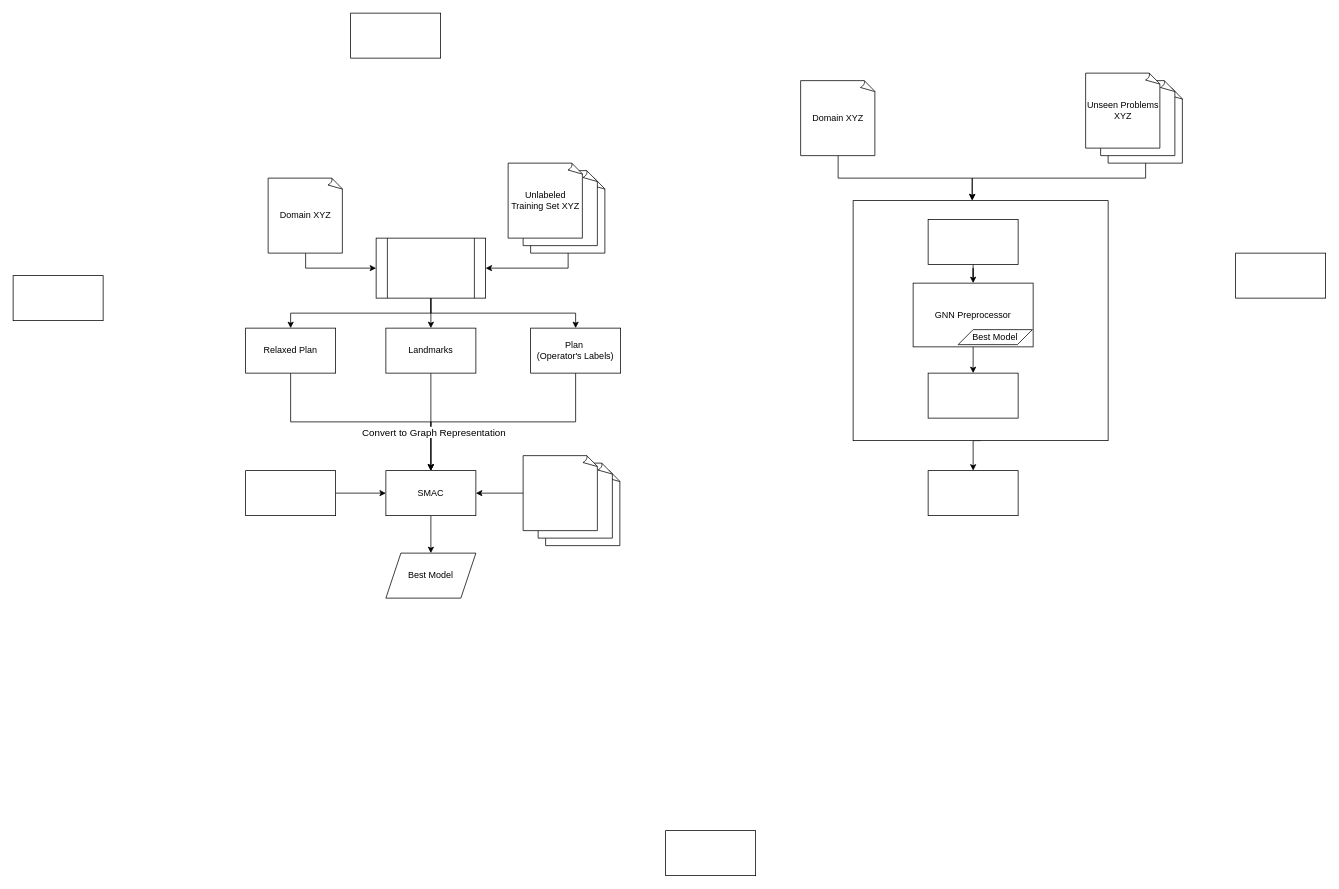
Image size: 1339x889. Some labels were removed from this diagram. The shapes that lost their labels are listed below. From the top down, each one's box as (x1, y1, x2, y2) in pixels, then its label:
(927, 219, 1018, 264): Fast Downward features
(375, 237, 486, 298): Fast Downward features & search
(927, 372, 1018, 418): Fast Downward search
(245, 470, 336, 516): Hyper-parameter's State Space
(522, 455, 598, 531): Evaluation Set XYZ
(927, 470, 1018, 516): Plan
